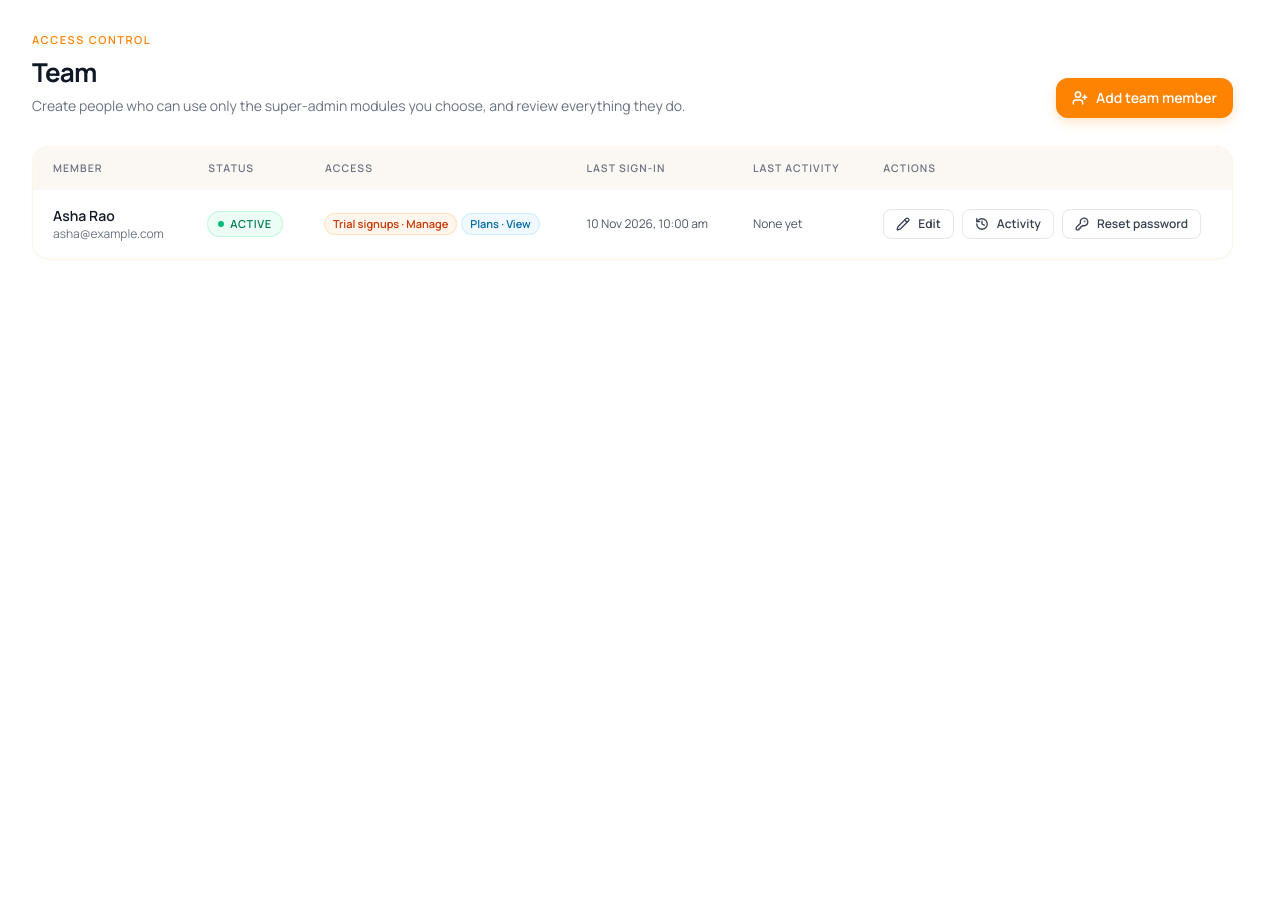
Test: Edit member › cannot save with every module removed
Click the button with aria-label "Edit Asha Rao".
click(919, 224)  # box 883,209 -> 954,239
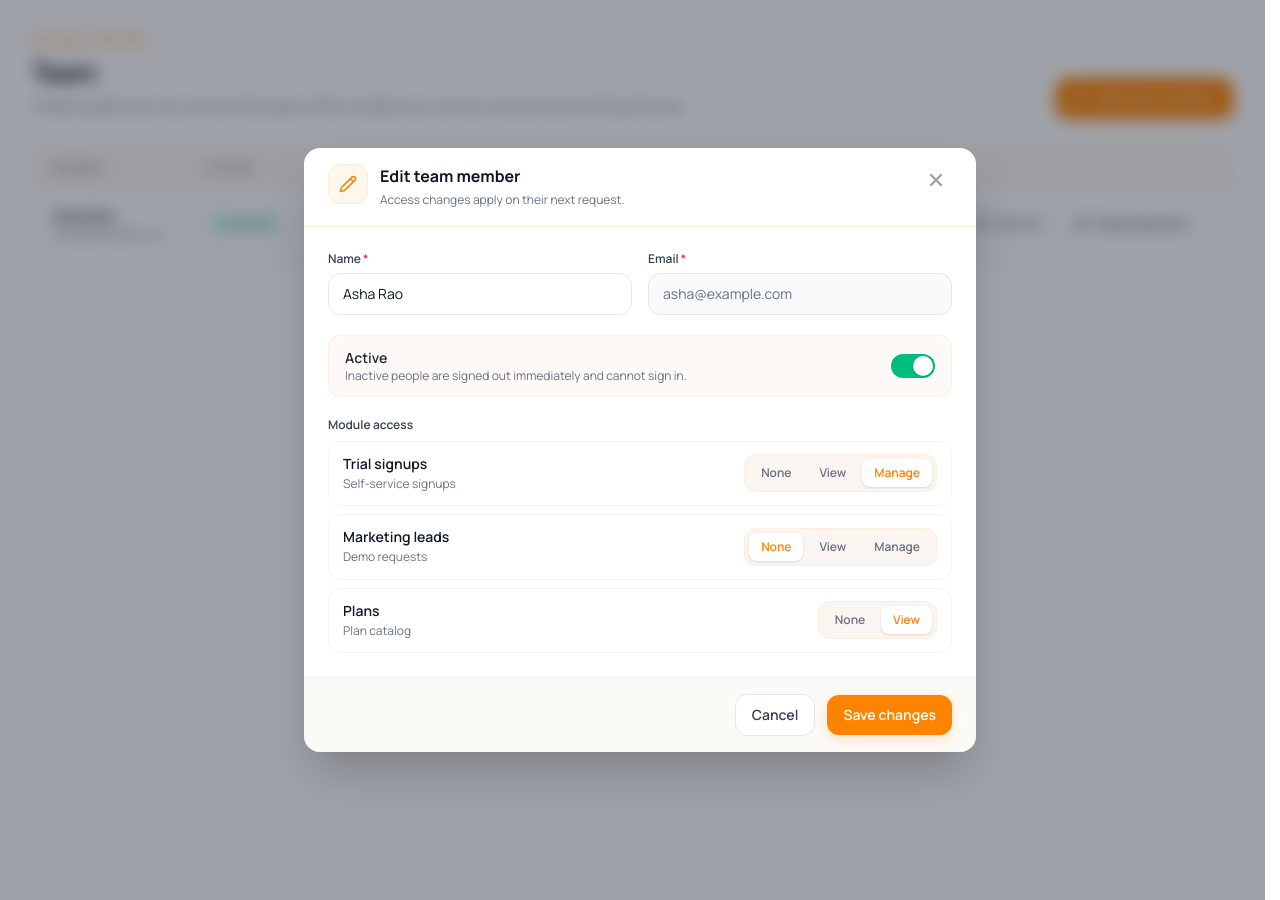
expect the field labelled "Name" is shown: met, box 328,272 -> 632,314
Click the radio button with aria-label "Trial signups: None".
click(776, 473)  # box 749,459 -> 803,487
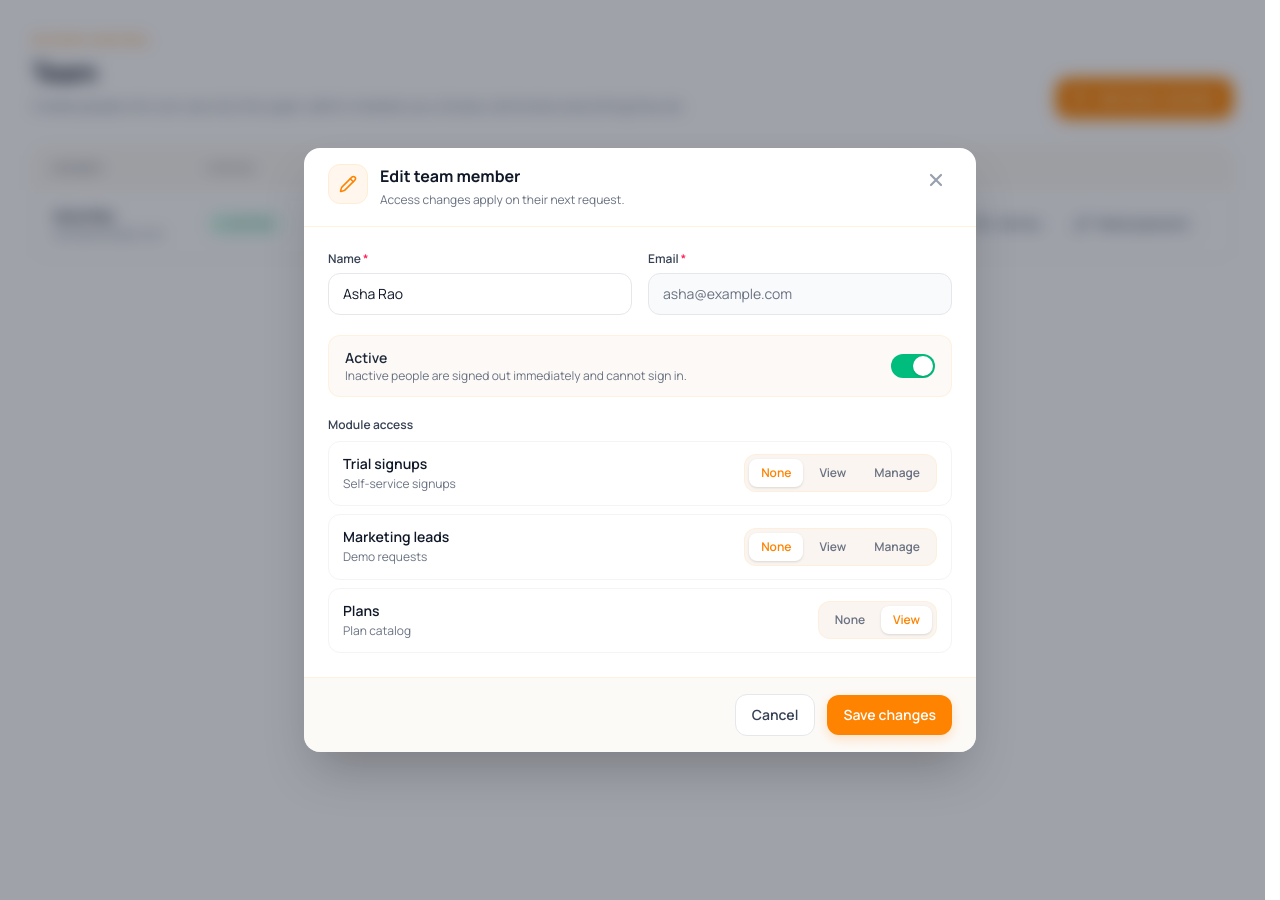
Click the radio button with aria-label "Plans: None".
click(850, 620)  # box 823,606 -> 877,634
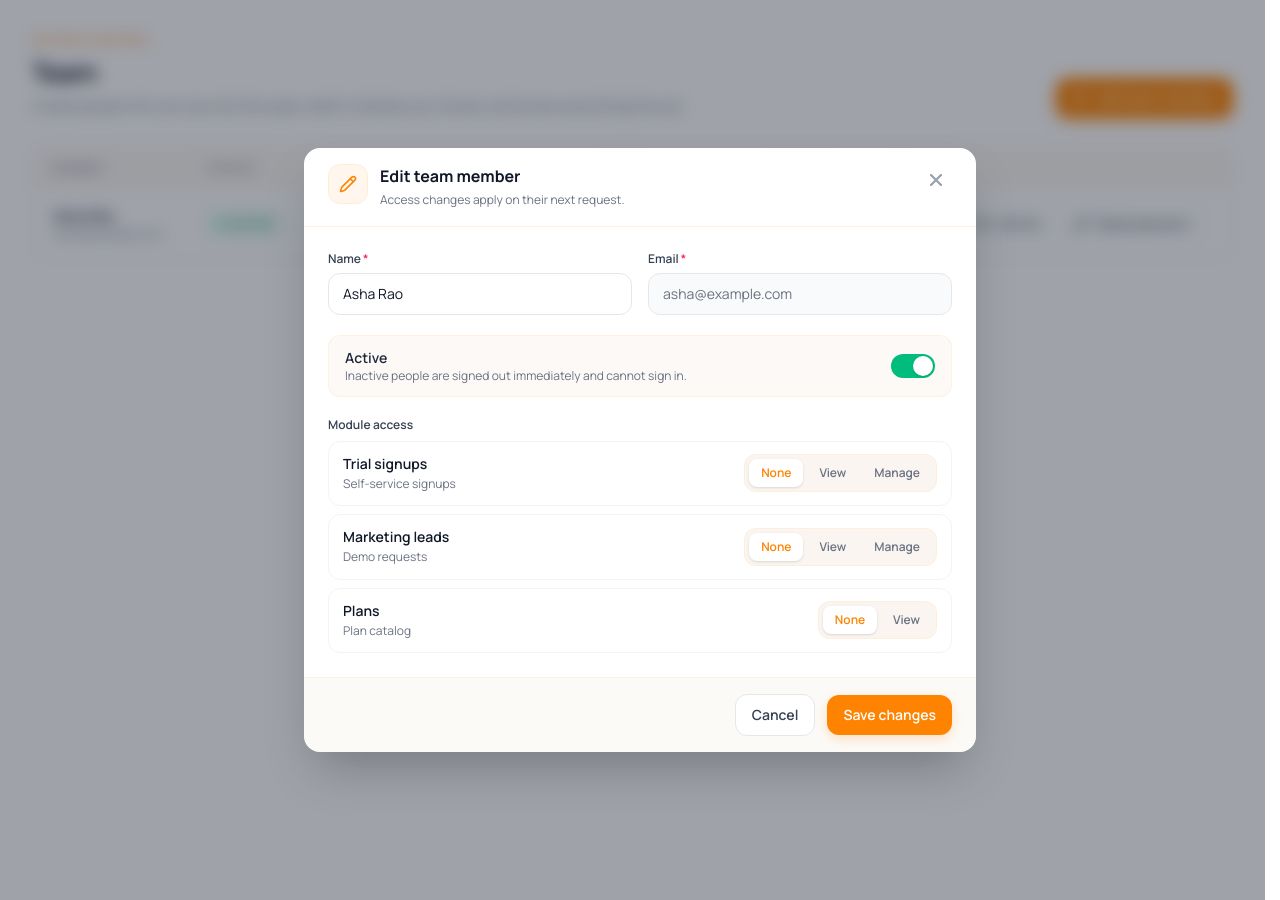
Click the button "Save changes".
click(890, 715)  # box 827,695 -> 952,735
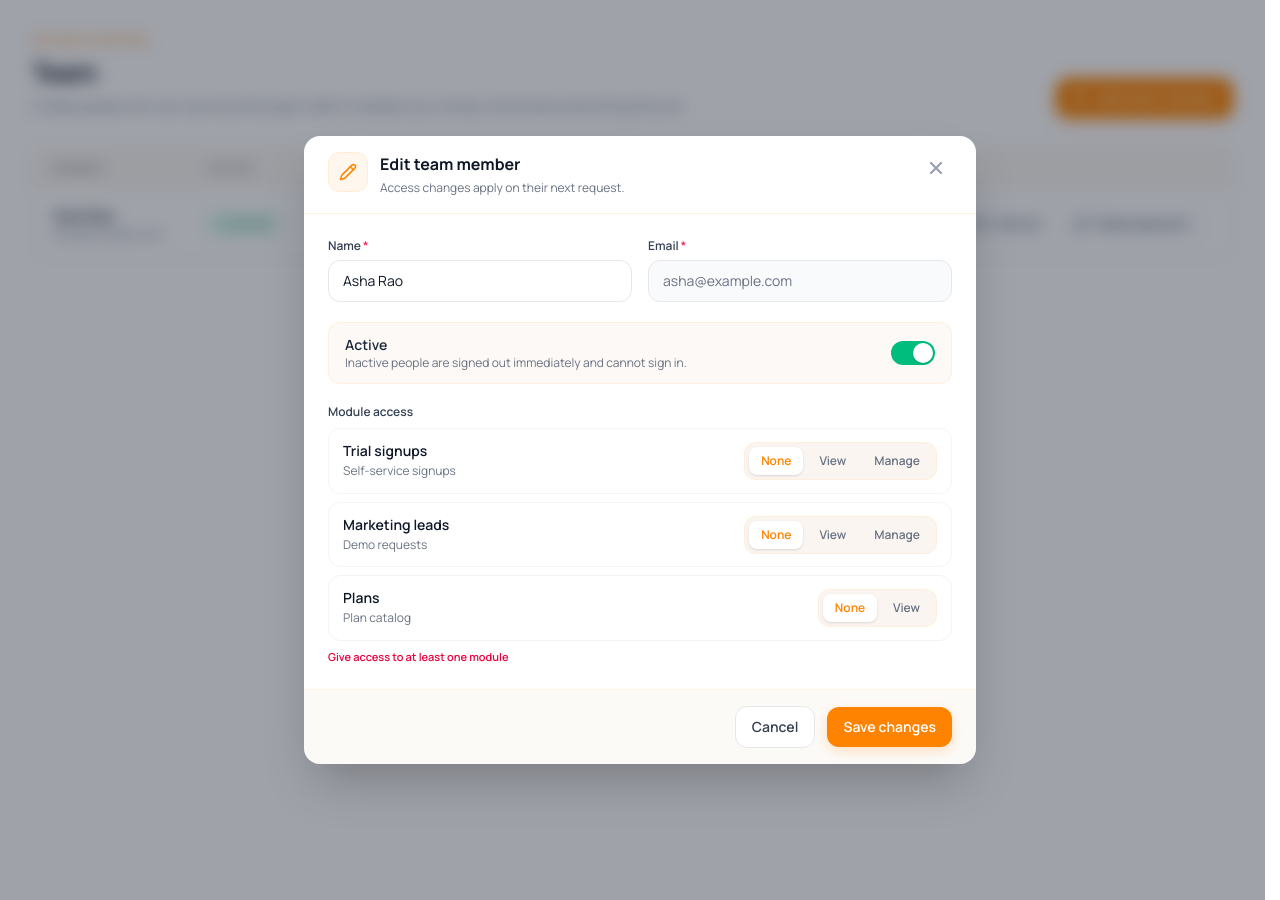
expect the text "Give access to at least one module" is shown: met, box 328,649 -> 508,664
